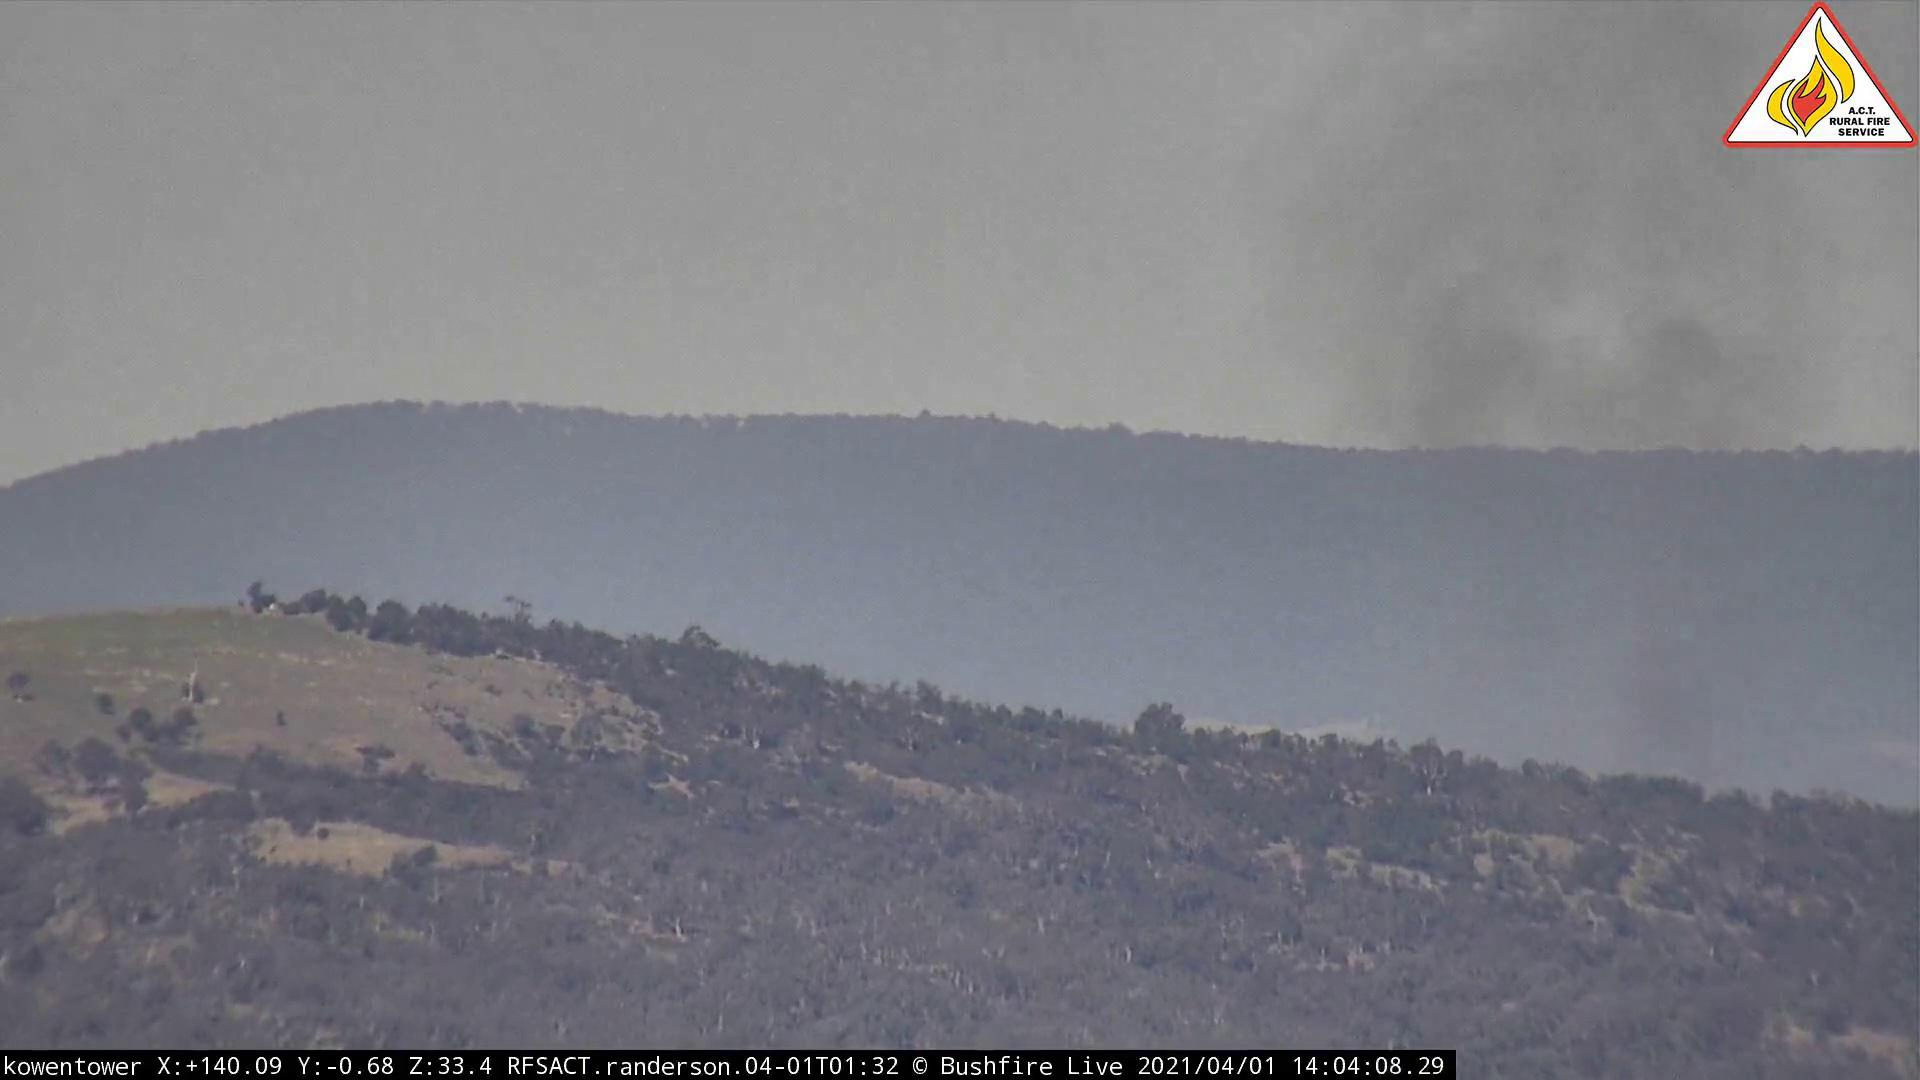Smoke: (1261, 162, 1920, 823)
